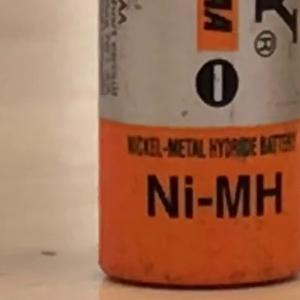keyword: (137, 162, 292, 229)
